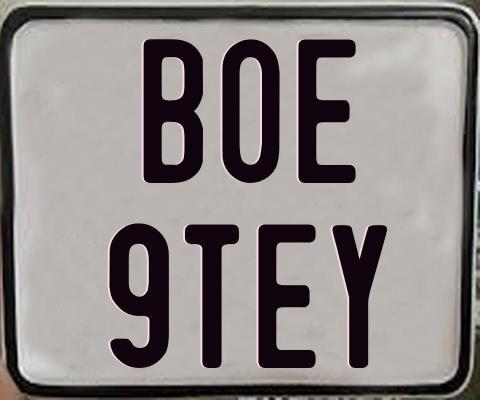0: (222, 37, 282, 181)
9: (108, 222, 174, 372)
B: (143, 38, 206, 184)
E: (258, 222, 319, 369), (297, 39, 355, 184)
T: (184, 223, 239, 370)
Y: (329, 224, 384, 367)
